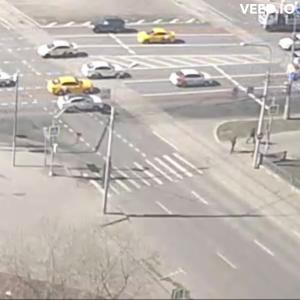car: (57, 93, 107, 114), (39, 41, 88, 61), (48, 75, 89, 97), (137, 28, 183, 46), (83, 62, 124, 81), (171, 70, 211, 89), (93, 18, 127, 36), (1, 72, 17, 89)
